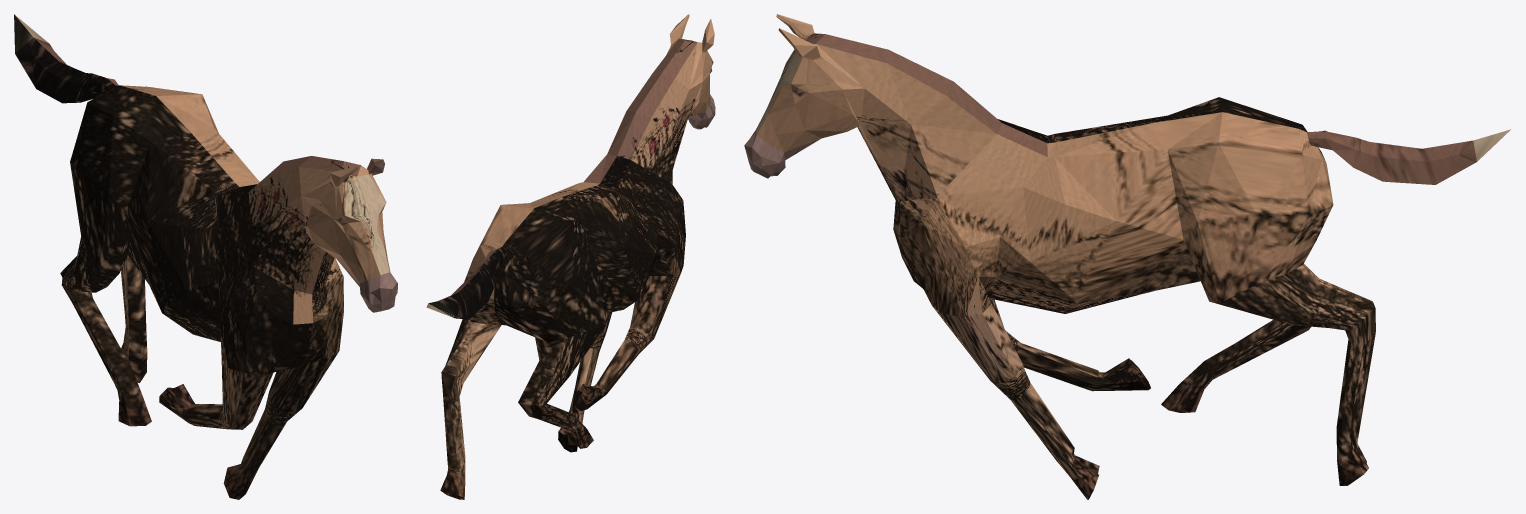
File: Horse.glb
The picture shows the model from 3 angles, left to right: view 1: azimuth 30°, elevation 25°; view 2: azimuth 150°, elevation 25°; view 3: azimuth 270°, elevation 25°; orthographic projection. The views are drawn at different scales.
Visible parts, largest first — view 1: mesh_0; view 2: mesh_0; view 3: mesh_0.
Part boxes in pixels (<box>): mesh_0: <box>14,14,397,499</box>; mesh_0: <box>426,14,715,499</box>; mesh_0: <box>744,14,1510,499</box>.
Bounding box in the file's own units: 66.18 × 192 × 284.
1 material, 1 textured.
